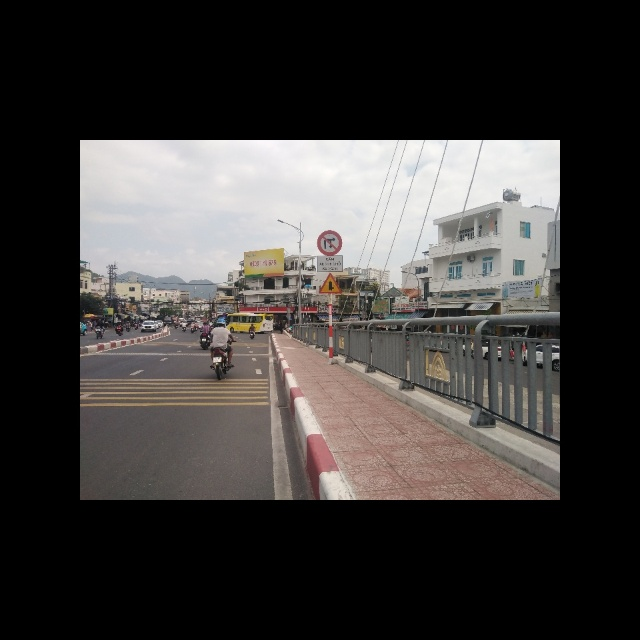Cấm quay đầu và rẽ phải: (317, 229, 342, 255)
Giao nhau với đường không ưu tiên: (318, 272, 342, 294)
